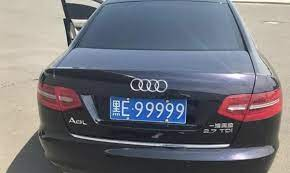number_plate: (105, 94, 194, 126)
